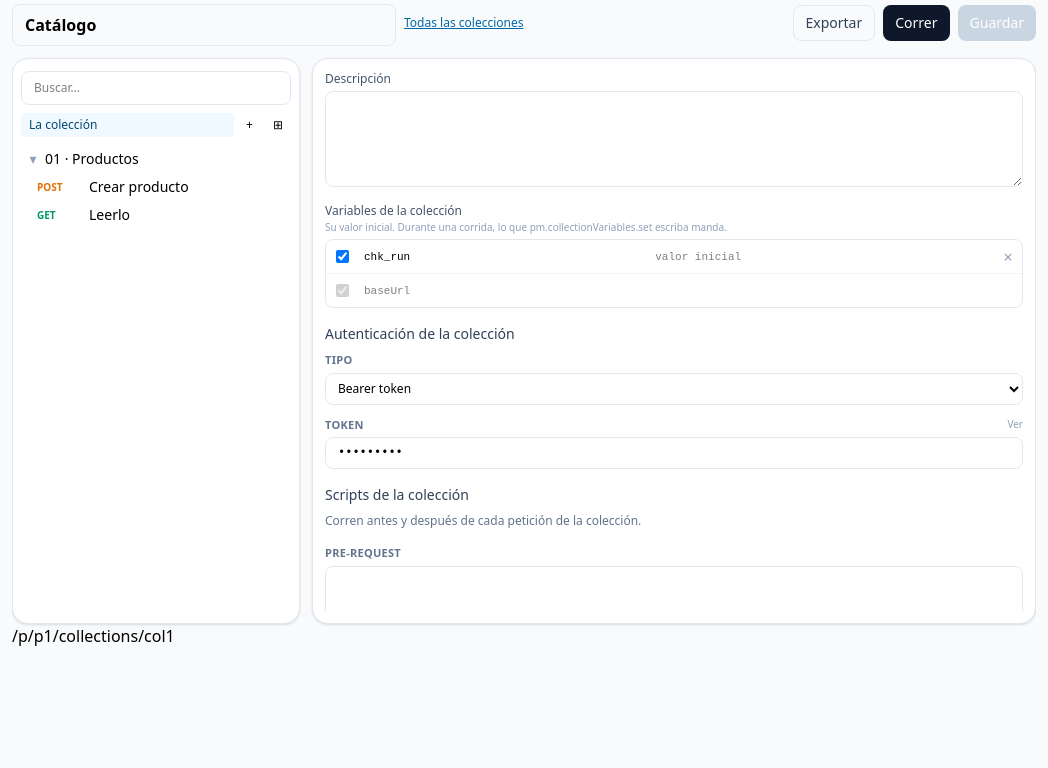
Scenario: el editor de una colección › «Enviar» manda lo que hay en pantalla con el itemId de dónde vive
expect the button "01 · Productos" is shown: met, box left=45, top=149, right=287, bottom=169
Click the button "Crear producto" at (188, 187), box left=89, top=177, right=287, bottom=197
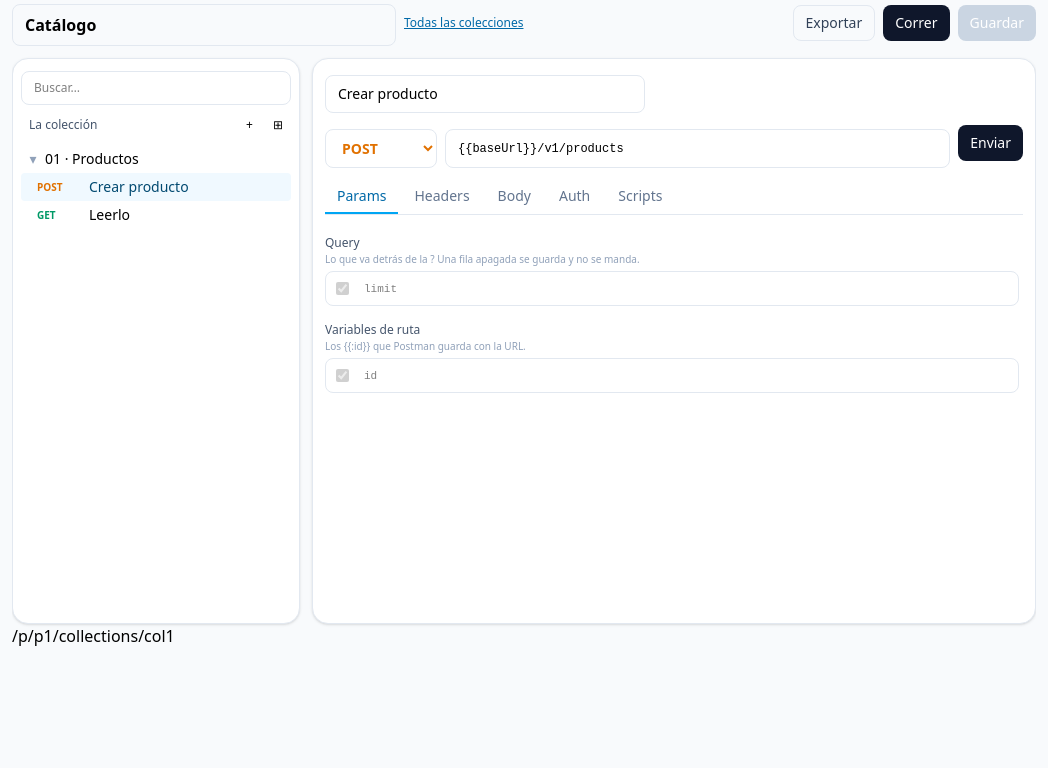
Click the button "Enviar" at (991, 143), box left=958, top=125, right=1023, bottom=161
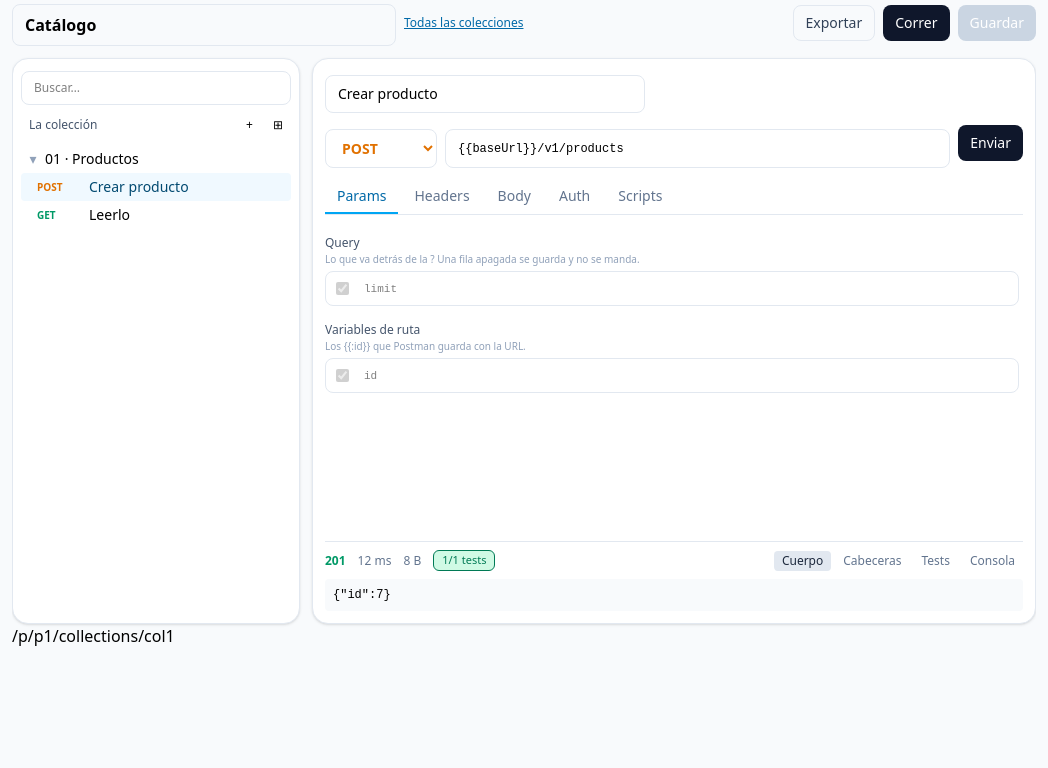
expect the text "201" is shown: met, box left=325, top=553, right=346, bottom=569
Click the button "Tests" at (936, 561), box left=914, top=551, right=958, bottom=571
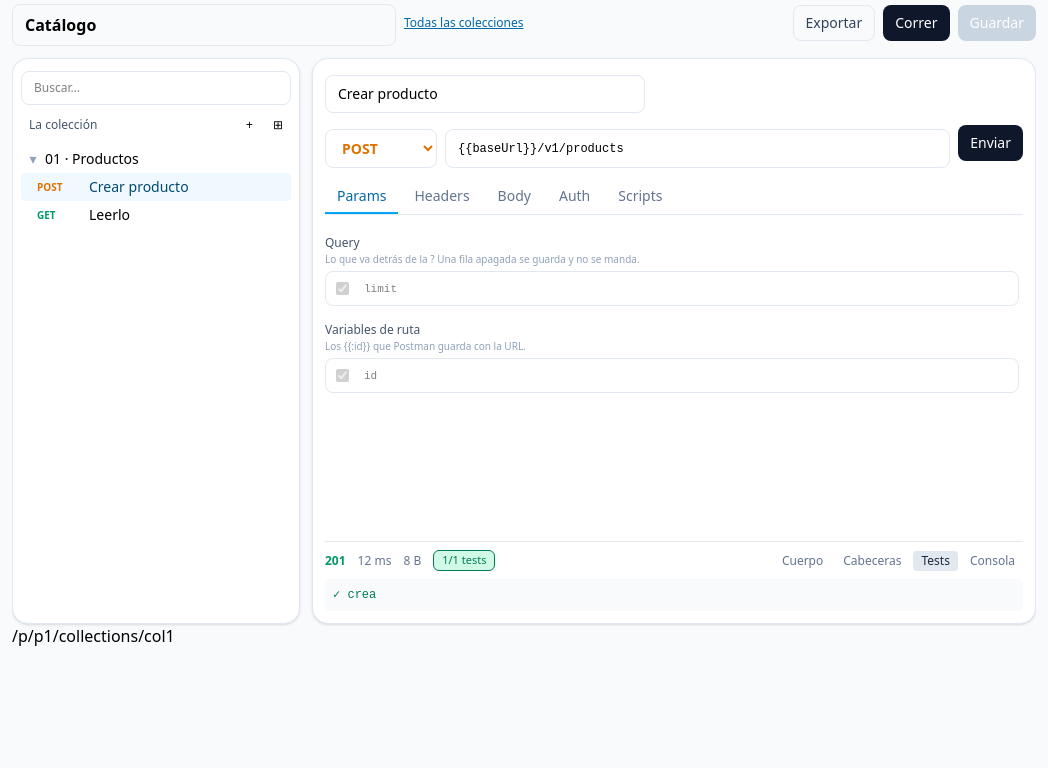
expect the list item "✓ crea" is shown: met, box left=333, top=588, right=376, bottom=602
